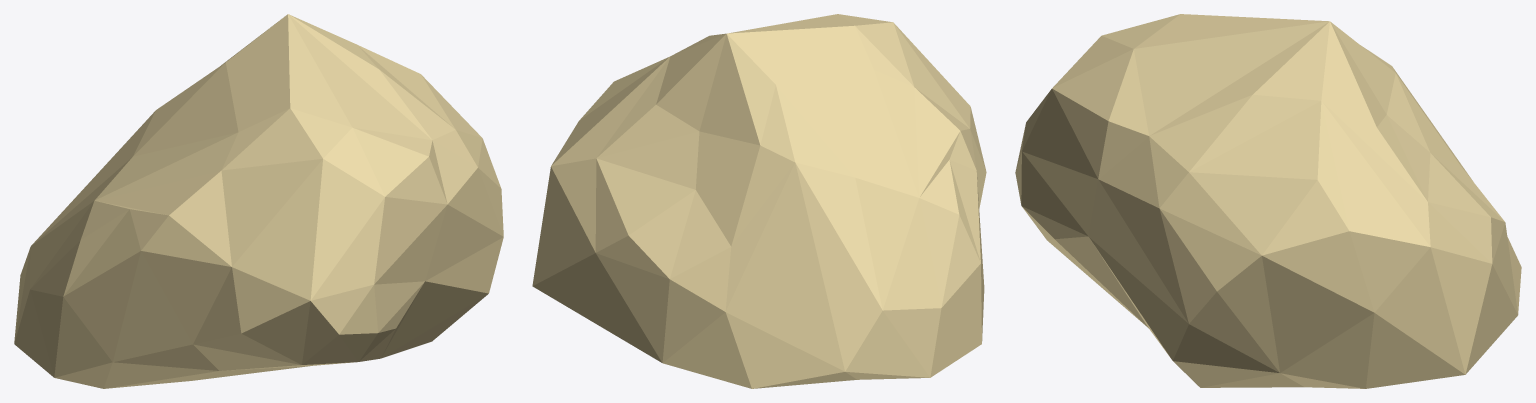
Rendered from Rock (44).fbx.
3 renders of one model, left to right at view 1: azimuth 30°, elevation 25°; view 2: azimuth 150°, elevation 25°; view 3: azimuth 270°, elevation 25°, orthographic. The views are drawn at different scales.
Parts seen in each view (by area): view 1: Asteroid43; view 2: Asteroid43; view 3: Asteroid43.
Boxes of the visible parts, bbox=[...] form: Asteroid43: bbox=[14, 14, 503, 388]; Asteroid43: bbox=[532, 14, 986, 388]; Asteroid43: bbox=[1015, 14, 1521, 388].
Size of the model in its own units: 150 by 107 by 148.
